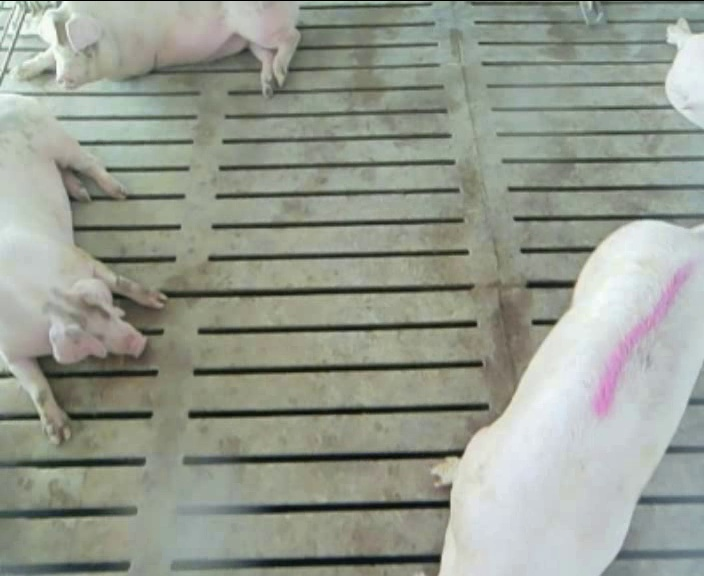pig: (430, 221, 703, 573), (15, 2, 299, 96)
